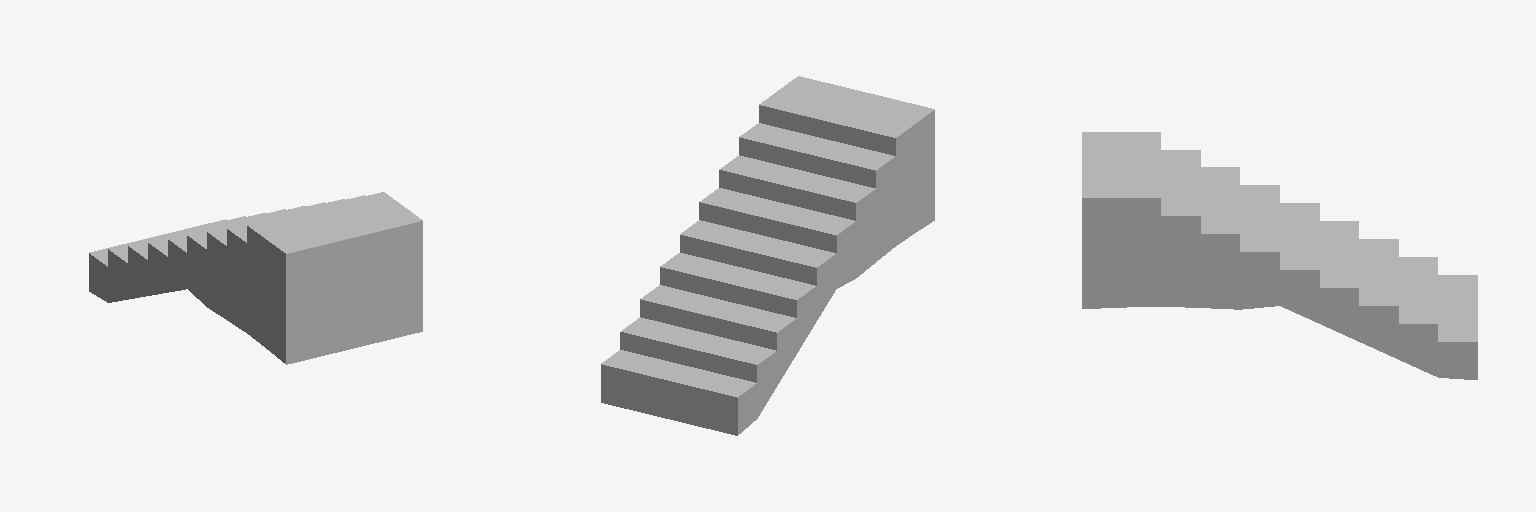
Rendered from Stairs (90).obj.
3 views of the same model, side by side, from view 1: azimuth 30°, elevation 25°; view 2: azimuth 150°, elevation 25°; view 3: azimuth 270°, elevation 25° (orthographic).
Parts seen in each view (by area): view 1: Stairs (90); view 2: Stairs (90); view 3: Stairs (90).
Part boxes in pixels (x1,y1,x2,y2): Stairs (90): (89, 192, 422, 364); Stairs (90): (601, 76, 934, 435); Stairs (90): (1082, 132, 1477, 379).
Size of the model in its own units: 2 by 2.54 by 5.